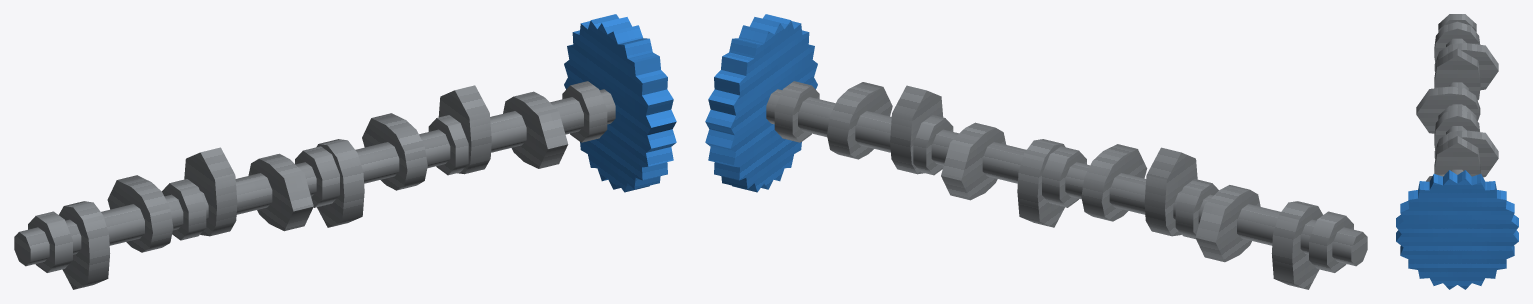
The model's file is comando_n2.glb.
The picture shows the model from 3 angles, left to right: view 1: azimuth 30°, elevation 25°; view 2: azimuth 150°, elevation 25°; view 3: azimuth 270°, elevation 25°; orthographic projection. The views are drawn at different scales.
Parts seen in each view (by area): view 1: comando_n2; view 2: comando_n2; view 3: comando_n2.
Boxes of the visible parts, left/top/right/bottom form: comando_n2: left=14, top=14, right=676, bottom=289; comando_n2: left=705, top=14, right=1367, bottom=289; comando_n2: left=1396, top=14, right=1518, bottom=289.
Bounding box in the file's own units: 0.48 × 0.119 × 0.119.
Materials: 1 (1 with a texture image).
